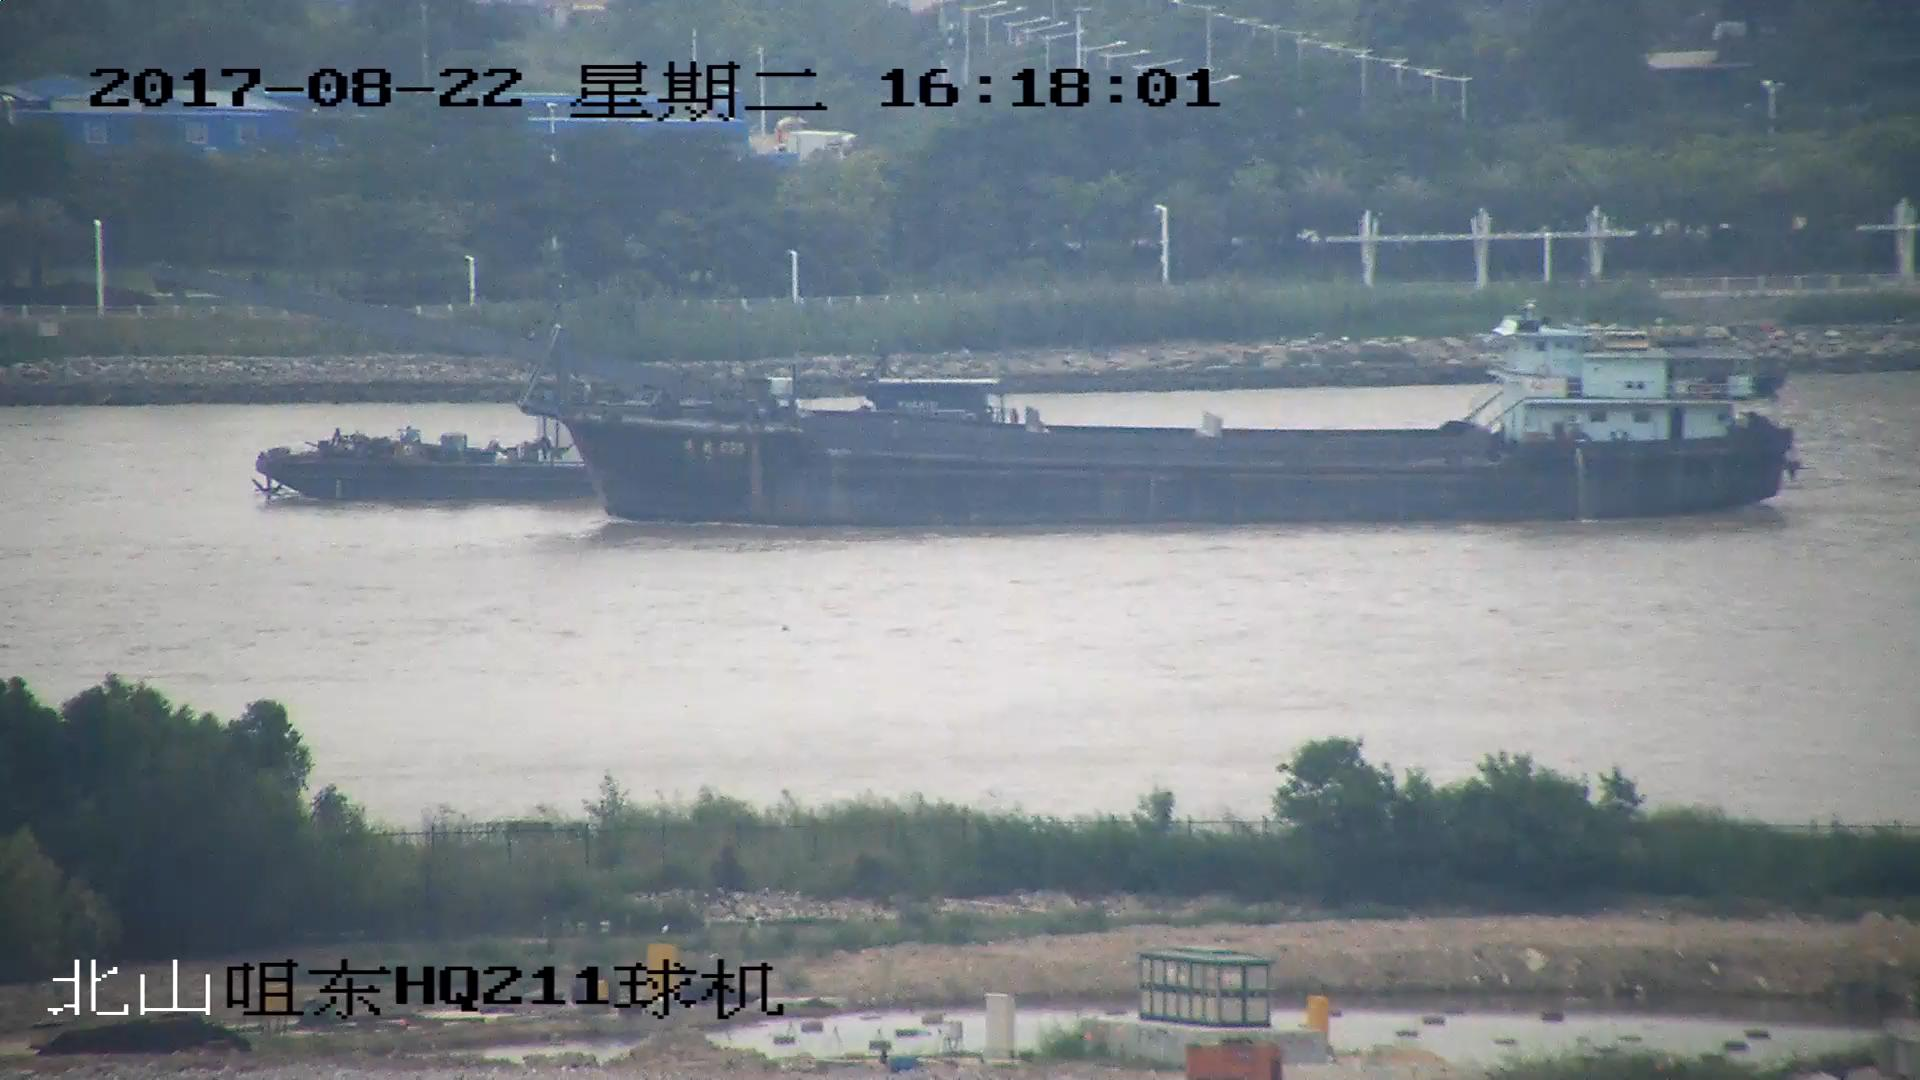bulk cargo carrier: (153, 263, 1802, 531), (248, 384, 1036, 503)
